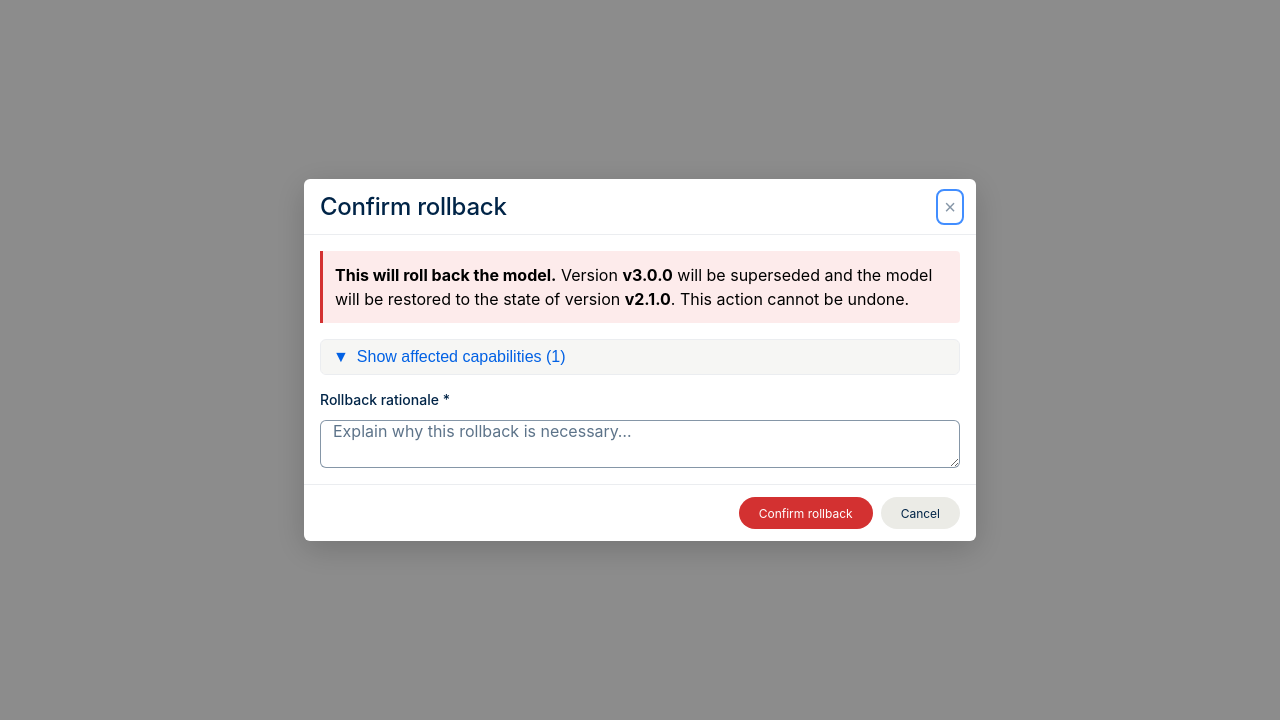
Test: RollbackConfirmDialog › diff preview › should collapse diff content on second toggle click
This screenshot has width=1280, height=720.
Click the button "▼ Show affected capabilities (1)": (377, 357) 321,340 -> 959,374
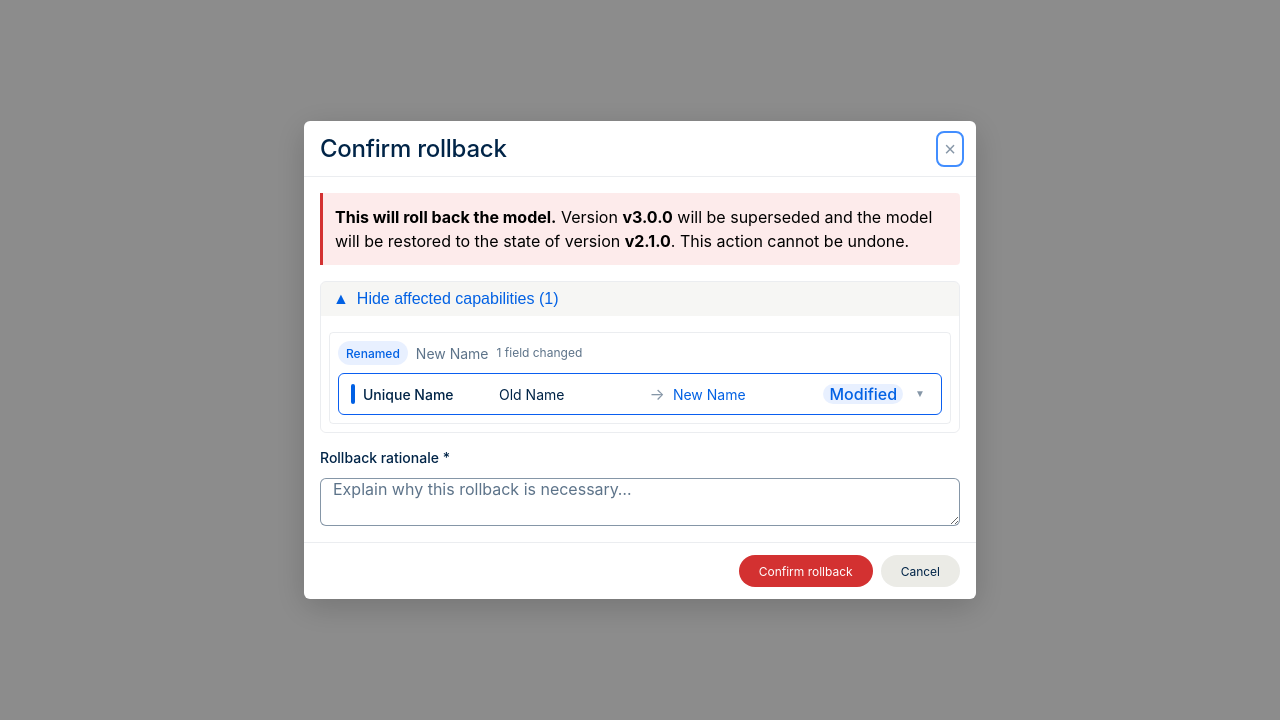
Click the button named "show affected capabilities": (373, 299) 321,282 -> 959,316
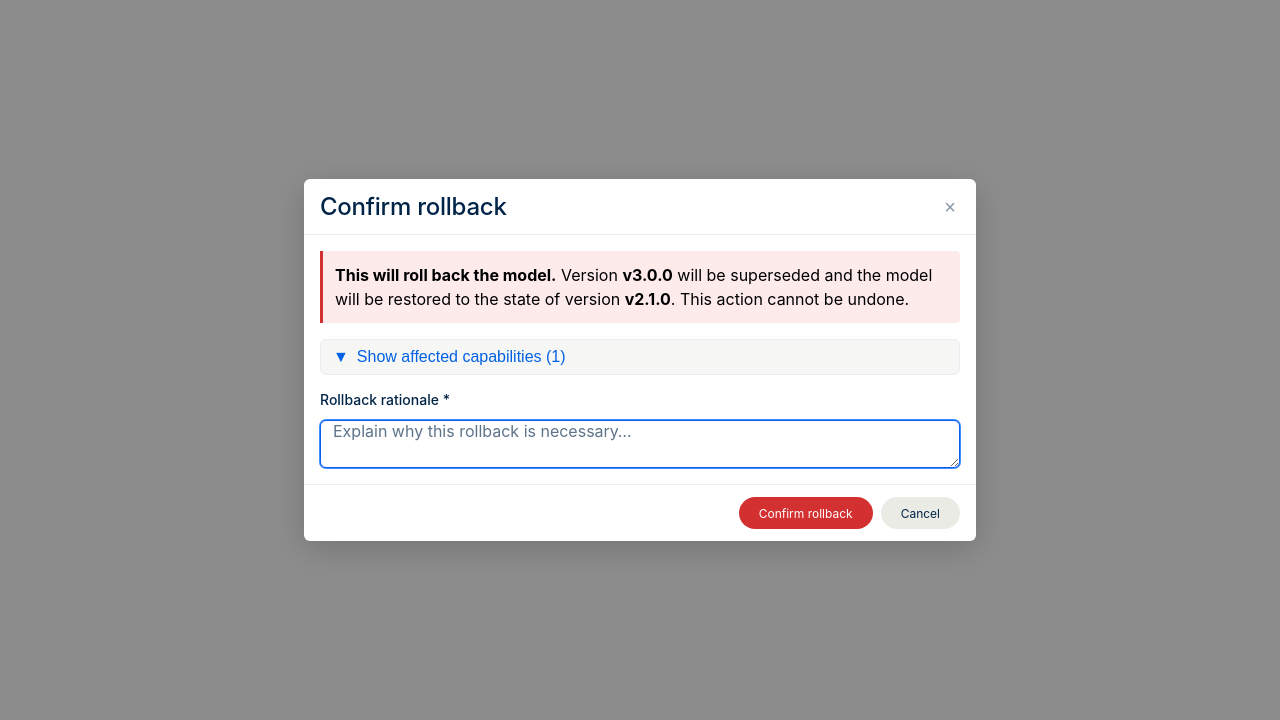
Expected: the text "Renamed" is gone
